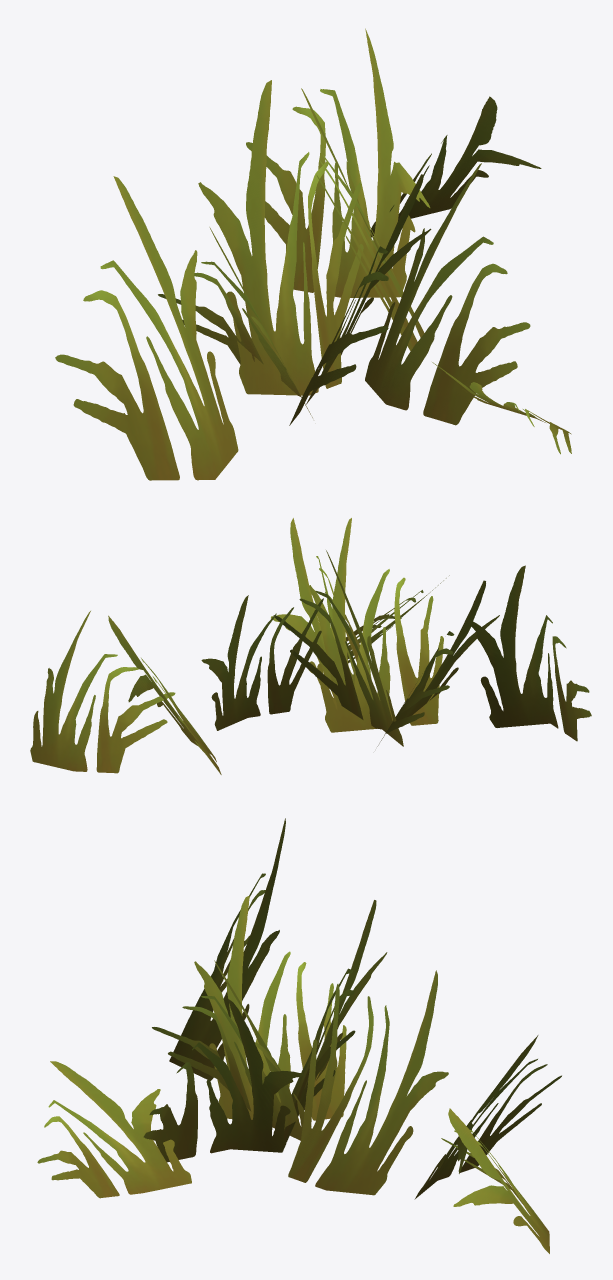
Rendered from SL_cao01.FBX.
3 views of the same model, one above another, from view 1: azimuth 30°, elevation 25°; view 2: azimuth 150°, elevation 25°; view 3: azimuth 270°, elevation 25° (orthographic). The views are drawn at different scales.
Parts seen in each view (by area): view 1: SL_cao01; view 2: SL_cao01; view 3: SL_cao01.
Part boxes in pixels (x1,y1,x2,y2): SL_cao01: [55, 28, 571, 480]; SL_cao01: [30, 518, 591, 774]; SL_cao01: [37, 818, 561, 1253].
Bounding box in the file's own units: 101 × 40.98 × 89.64.
